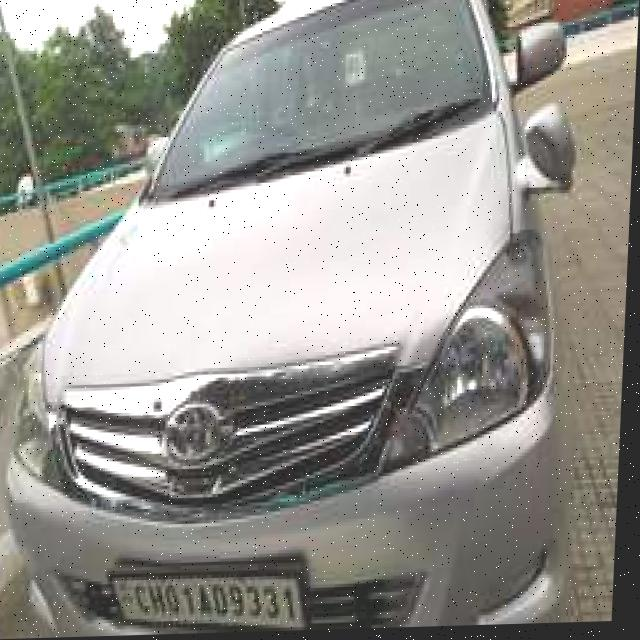plate: (116, 564, 310, 637)
